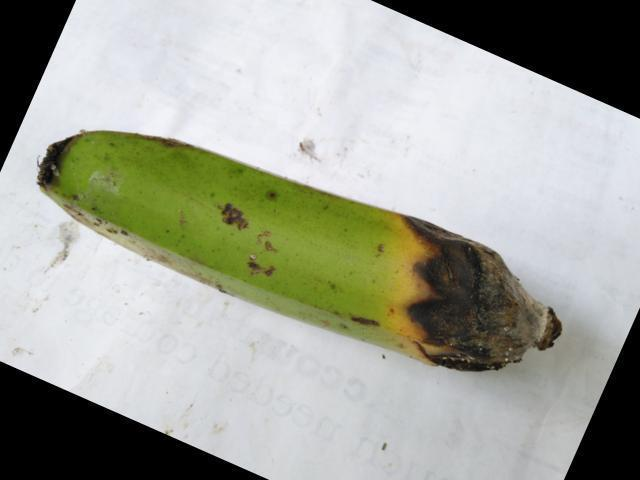rotten: (358, 167, 604, 398), (9, 105, 95, 208)
